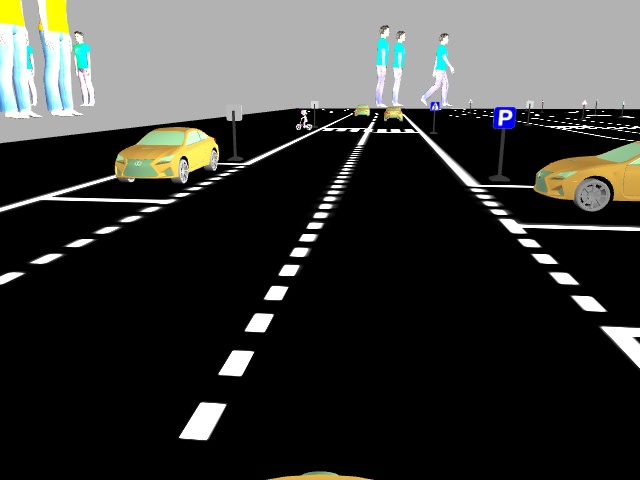Parking: (491, 103, 518, 130)
